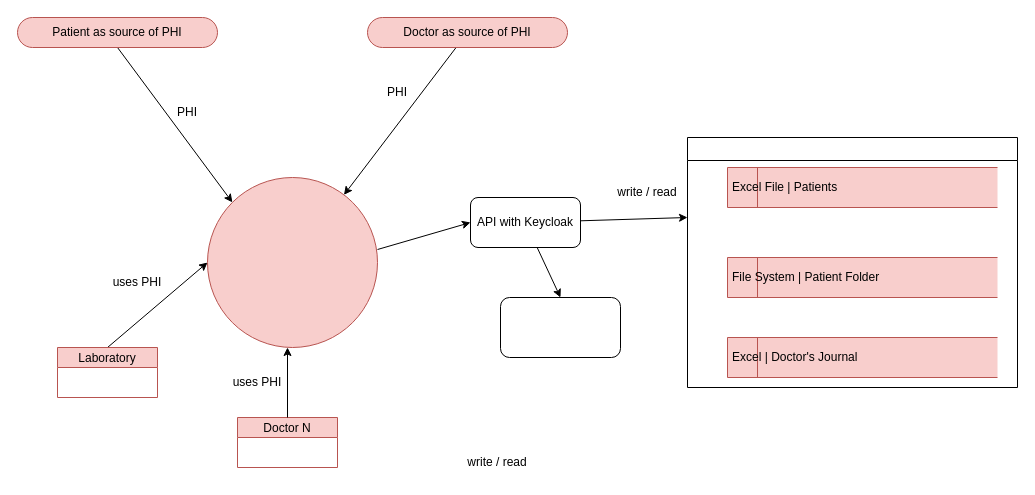
Image size: 1035x495. Some labels were removed from this diagram. Here are the shapes that lost their labels. From the top down, the centre of each, then its label:
the point at 292,262: Appointment Data Log
the point at 852,262: S3 Storage
the point at 560,327: ELK
